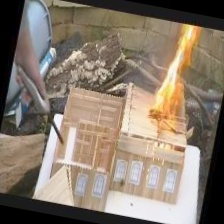fire: (133, 17, 215, 132)
